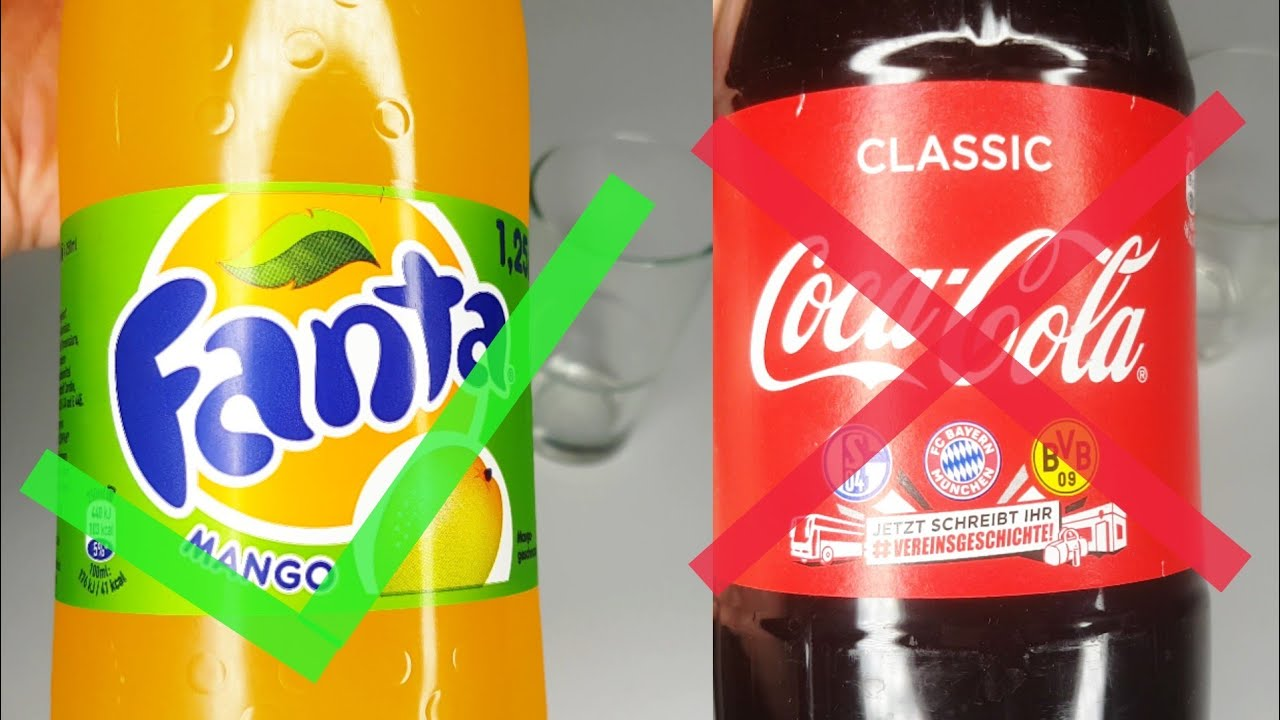Coca-Cola: (695, 1, 1182, 720)
Fanta: (53, 1, 540, 720)
